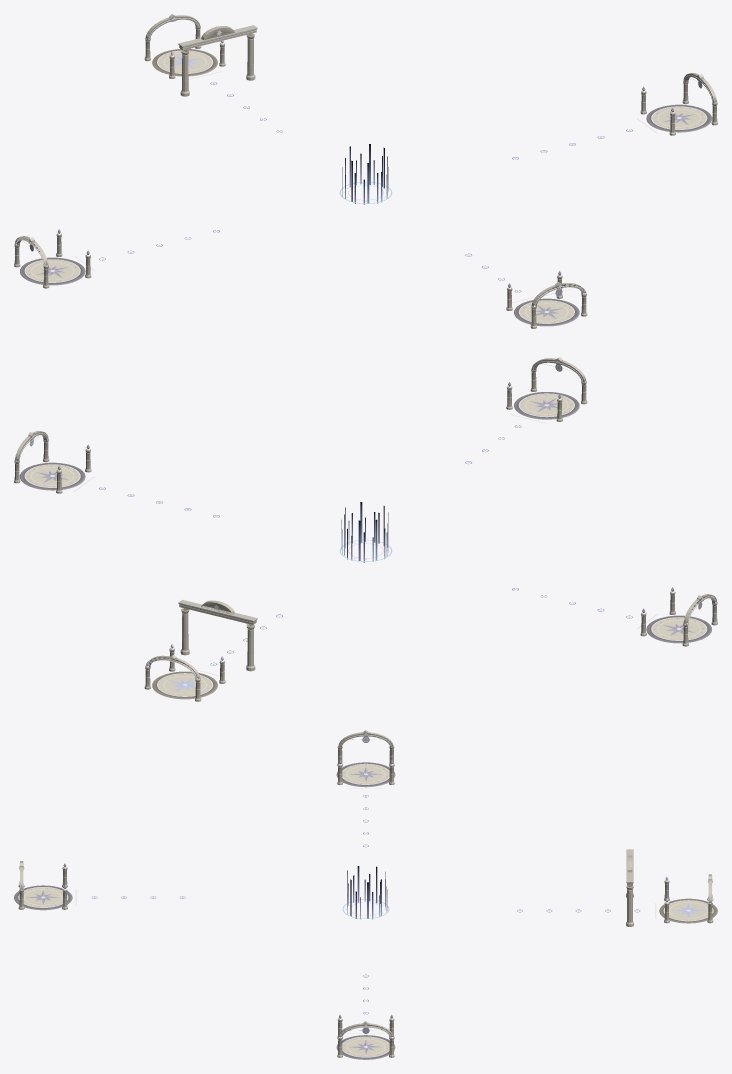
Rendered from portals_hq.glb.
3 views of the same model, one above another, from view 1: azimuth 30°, elevation 25°; view 2: azimuth 150°, elevation 25°; view 3: azimuth 270°, elevation 25° (orthographic). The views are drawn at different scales.
Visible parts, largest first — view 1: Portal_stone, Portal_paving, Portal_gold, Portal_fx, Portal_props; view 2: Portal_stone, Portal_paving, Portal_gold, Portal_fx, Portal_props; view 3: Portal_stone, Portal_paving, Portal_gold, Portal_fx, Portal_props.
Part boxes in pixels (box(x1,y1,x2,y2)): Portal_stone: box(14, 14, 717, 328); Portal_paving: box(25, 51, 706, 323); Portal_gold: box(15, 18, 716, 323); Portal_fx: box(342, 144, 388, 204); Portal_props: box(16, 81, 715, 322); Portal_stone: box(14, 357, 717, 701); Portal_paving: box(25, 394, 706, 696); Portal_gold: box(15, 360, 716, 696); Portal_fx: box(341, 502, 388, 562); Portal_props: box(16, 364, 715, 639); Portal_stone: box(14, 730, 717, 1059); Portal_paving: box(19, 764, 712, 1057); Portal_gold: box(18, 733, 713, 1057); Portal_fx: box(347, 866, 387, 919); Portal_props: box(21, 737, 393, 1056).
Bounding box in the file's own units: 96 × 7.95 × 96.
